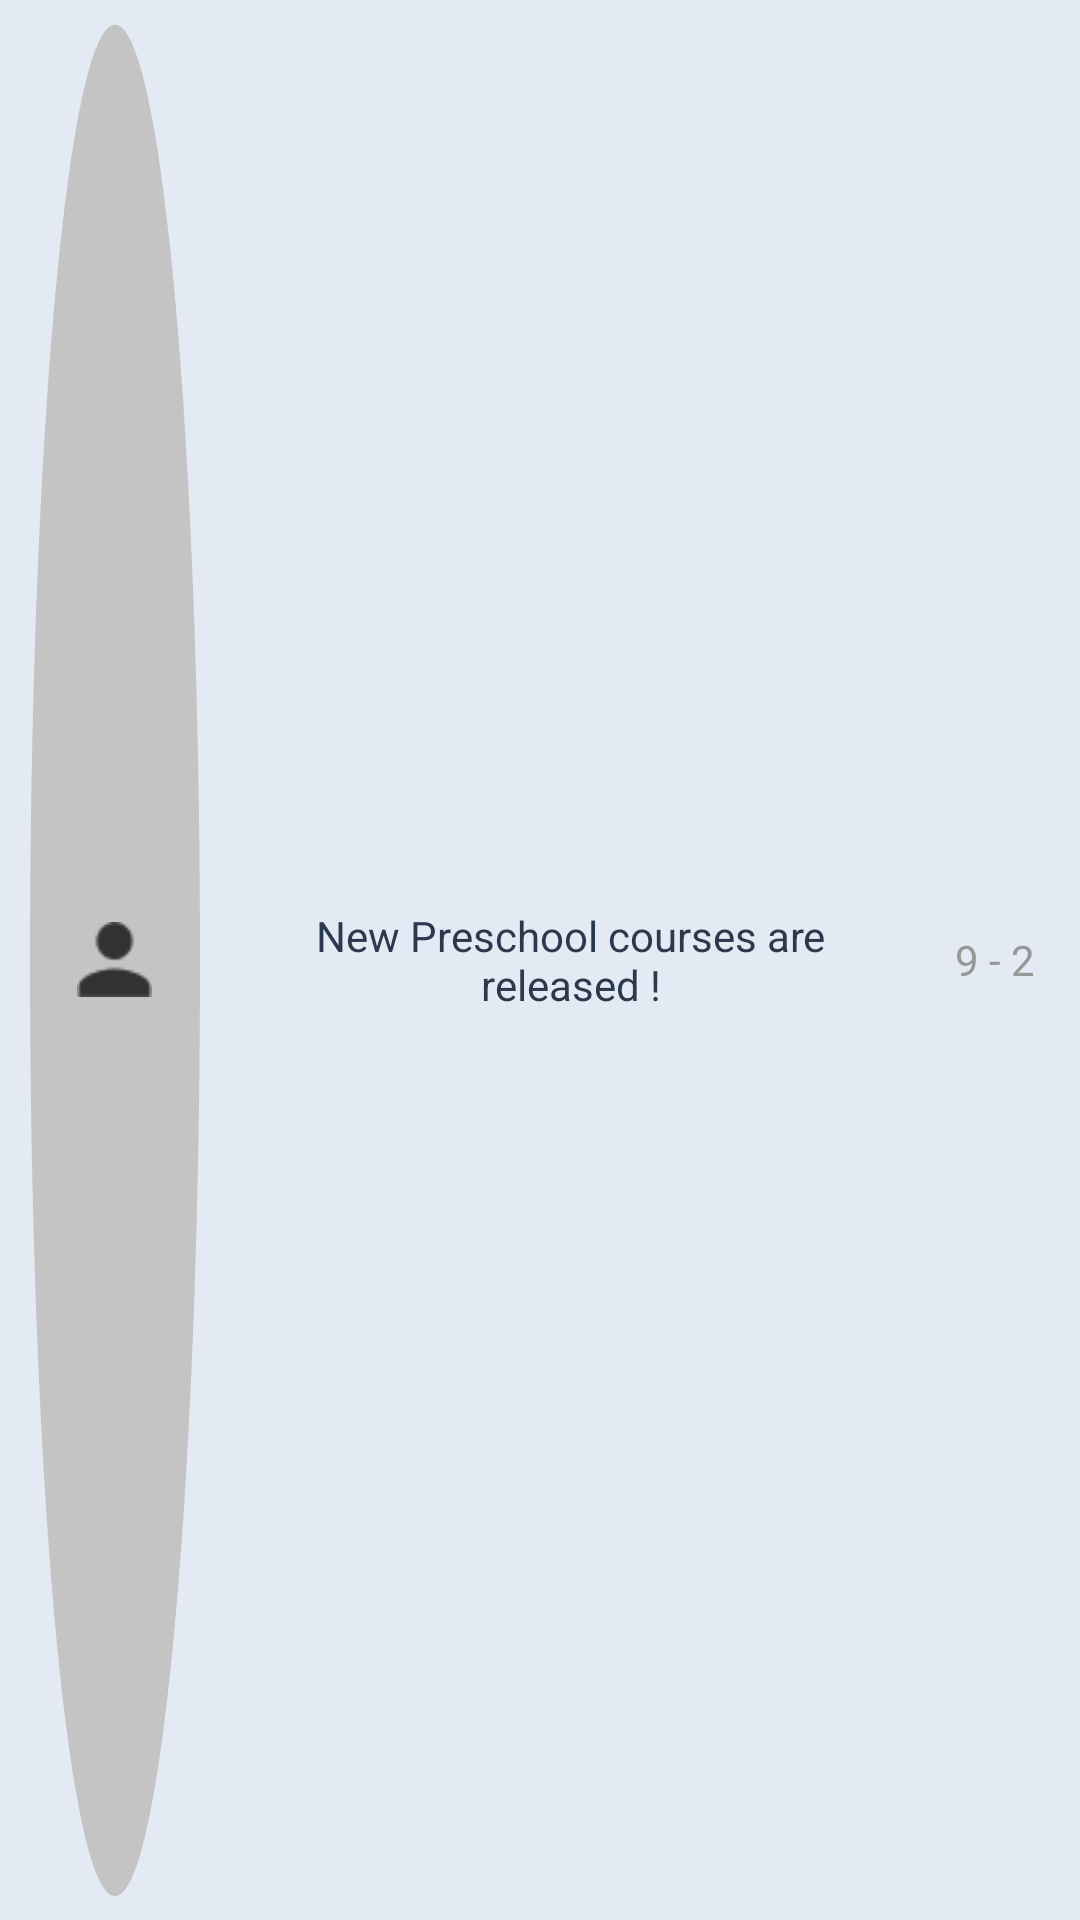

Where icons sit on this 1080*1920 app screen, as (x1, y1, x2, y2):
person: (77, 922, 152, 997)
